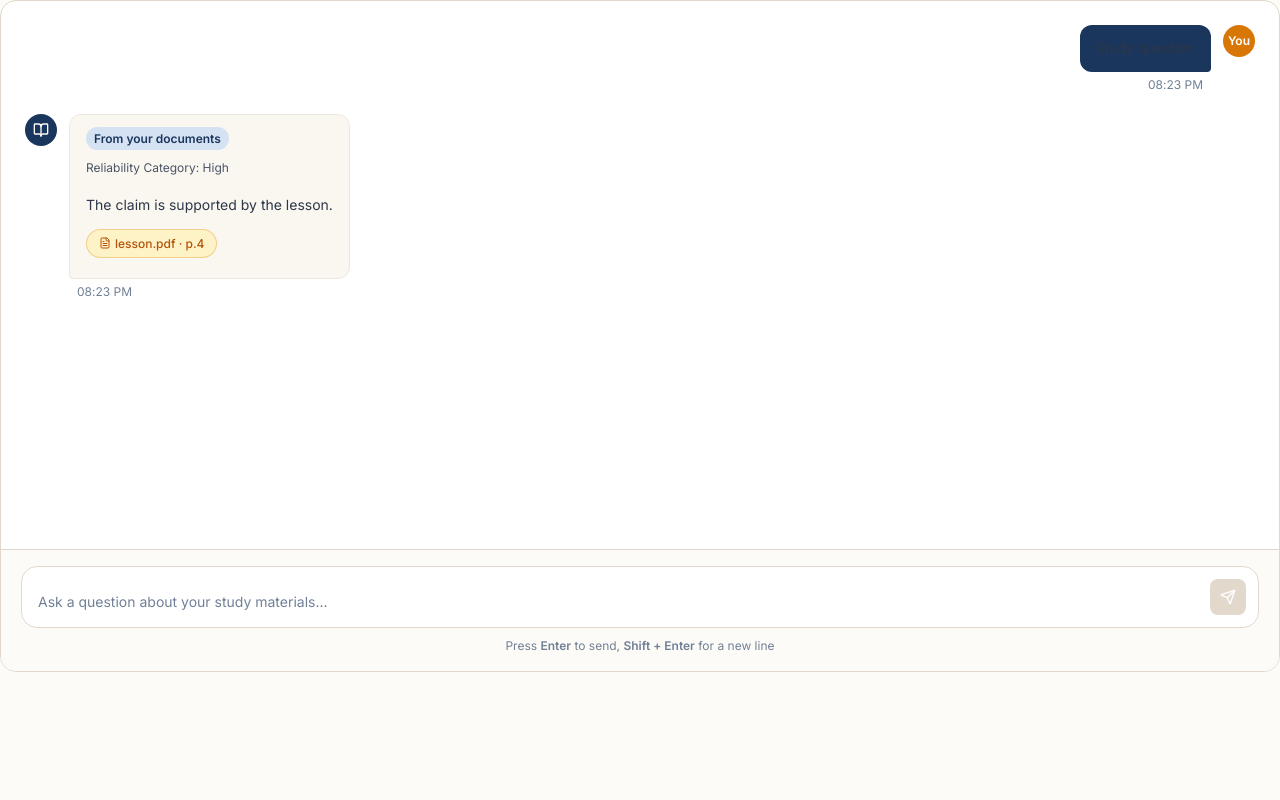
Chat answer mode and citations › shows document-supported mode and opens a retrieved passage citation
Expected: the text "From your documents" is shown, [86, 127, 229, 150]
Expected: the text "Reliability category: high" is shown, [86, 160, 229, 175]
Click the button "lesson.pdf · p.4" at coordinates (152, 243), box [86, 228, 218, 258]
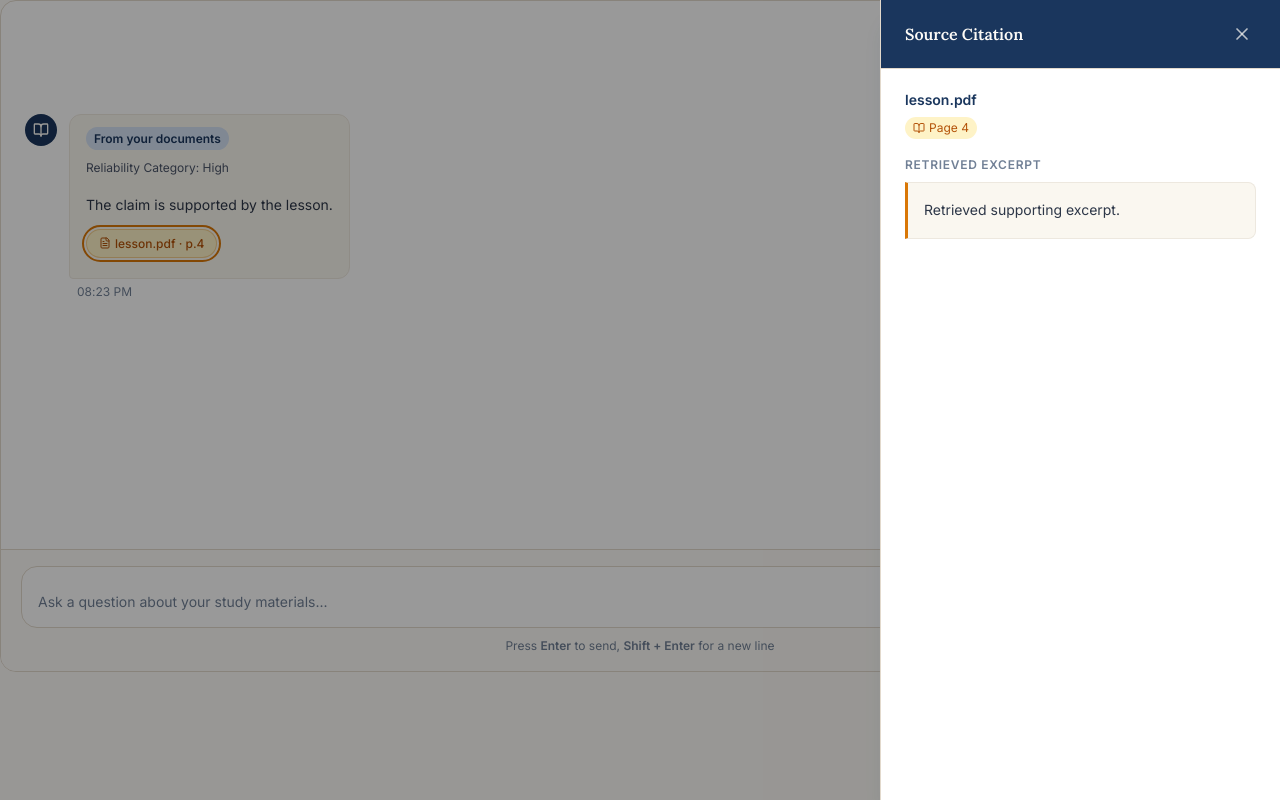
Result: the text "Retrieved supporting excerpt." is shown at [905, 182, 1256, 239]
